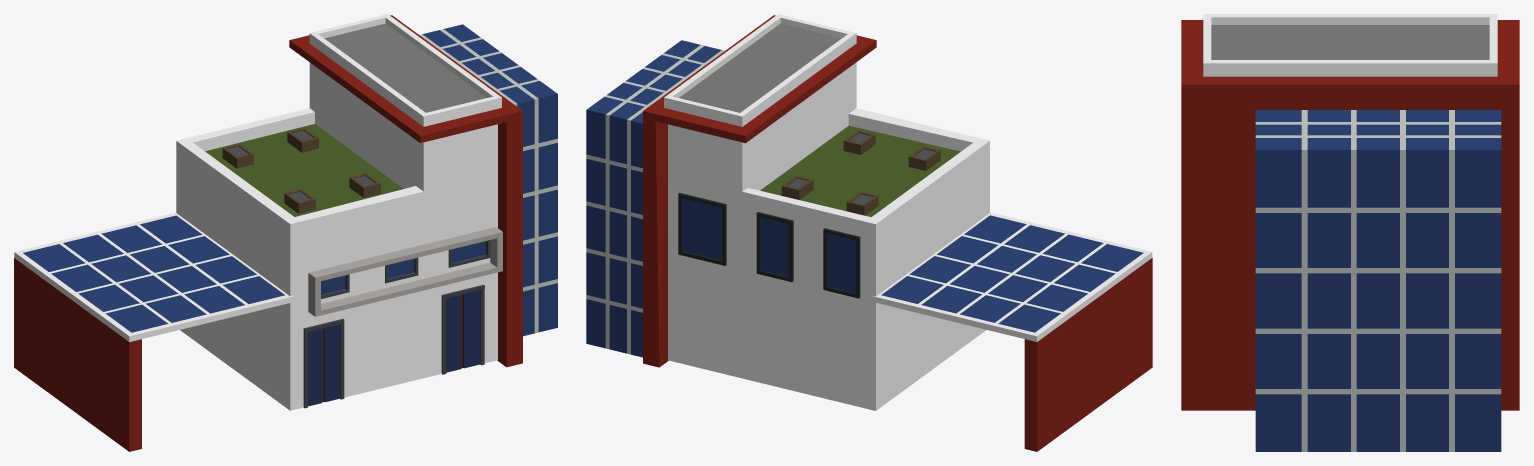
File: Apartment_2.fbx
3 renders of one model, left to right at view 1: azimuth 30°, elevation 25°; view 2: azimuth 150°, elevation 25°; view 3: azimuth 270°, elevation 25°, orthographic. The views are drawn at different scales.
Parts seen in each view (by area): view 1: Apartment_2; view 2: Apartment_2; view 3: Apartment_2.
Part boxes in pixels (left/top/right/bottom): Apartment_2: left=14, top=14, right=557, bottom=451; Apartment_2: left=586, top=14, right=1152, bottom=451; Apartment_2: left=1181, top=14, right=1519, bottom=451.
Bounding box in the file's own units: 1217 × 682 × 614.
